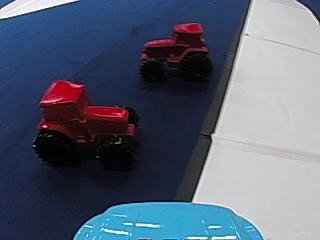Tracktor: (30, 77, 144, 170), (136, 20, 213, 82)
